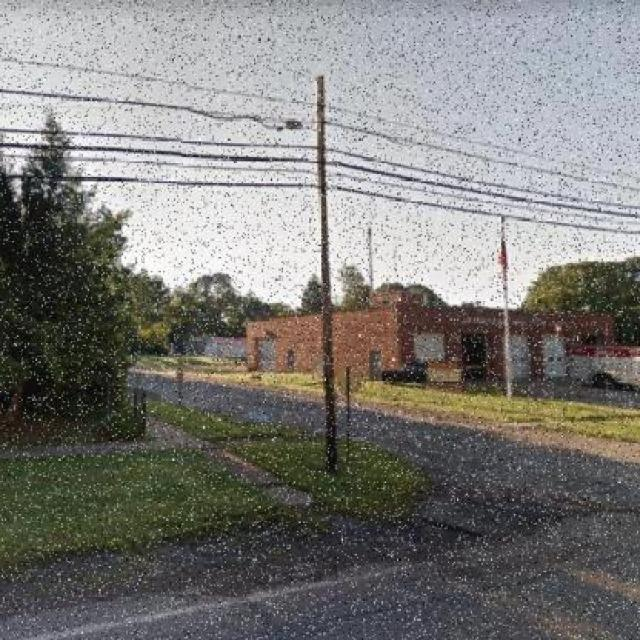pole: (228, 38, 428, 482)
